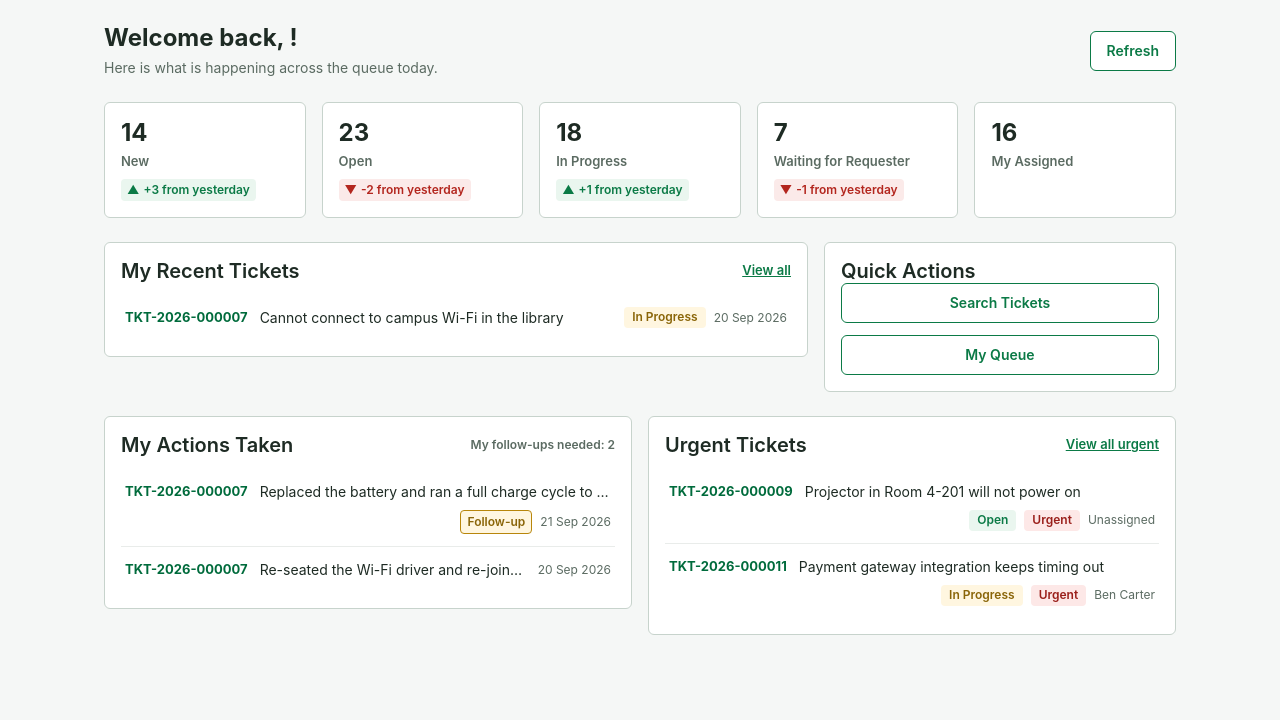
Test: UI-08 — one failed group shows retry while the other still renders (ui-spec §2.4) › a refresh failure after a good load keeps both groups mounted — no blank-out
Check: the list with test id "recent-list" is shown, box x1=121 y1=295 x2=791 y2=340
What coordinates should you click on to do the following:
click the button with test id "dashboard-refresh"
I would click on:
 (1133, 51)
Its box is x1=1090 y1=31 x2=1176 y2=71.
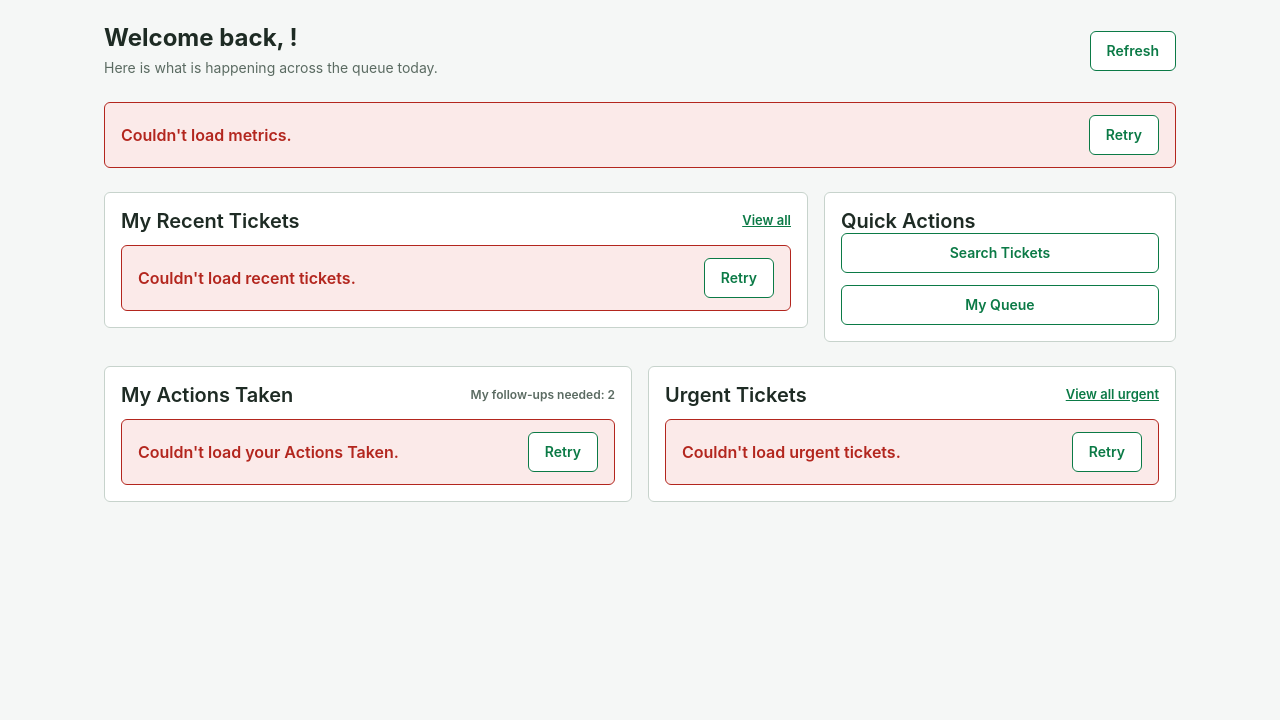
Check: the message "Couldn't load metrics. Retry" is shown, box x1=104 y1=102 x2=1176 y2=168
Check: the message "Couldn't load recent tickets. Retry" is shown, box x1=121 y1=245 x2=791 y2=311
